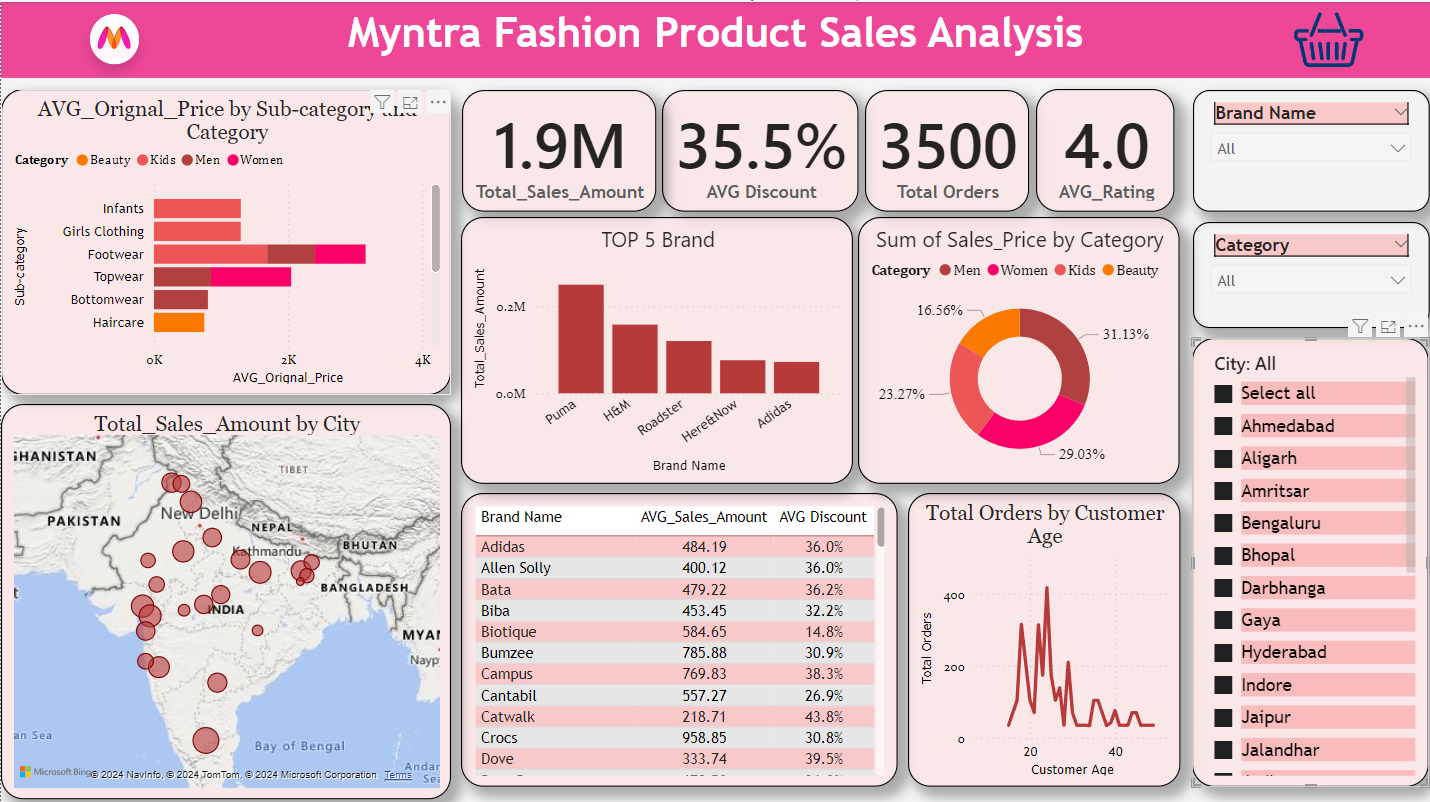

This screenshot's page, from the dashboard's own definition file:
{"tool":"powerbi","page":{"name":"Page 2","canvas":[1280,720],"ordinal":0},"visuals":[{"type":"textbox","box":[0,0,1280,67.8],"z":0},{"type":"image","box":[0,0,201.5,77.9],"z":1000},{"type":"barChart","fields":{"Category":["dim_products.Sub-category"],"Y":["fact_orders.AVG_Orignal_Price"],"Series":["dim_products.Category"]},"box":[0,77.8,403.3,274.4],"z":2000},{"type":"tableEx","fields":{"Values":["dim_products.Brand Name","fact_orders.AVG_Sales_Amount","fact_orders.AVG Discount"]},"box":[411.9,439.7,391.3,263.3],"z":3000},{"type":"card","fields":{"Values":["fact_orders.AVG Discount"]},"box":[591.8,78.8,176.4,109.3],"z":5000},{"type":"card","fields":{"Values":["fact_orders.Total Orders"]},"box":[773.9,78.8,146.9,109.3],"z":6000},{"type":"card","fields":{"Values":["dim_products.AVG_Rating"]},"box":[926.5,77.9,124.5,110.1],"z":7000},{"type":"slicer","fields":{"Values":["dim_products.Brand Name"]},"box":[1067.5,78.8,212.2,109.3],"z":8000},{"type":"card","fields":{"Values":["fact_orders.Total_Sales_Amount"]},"box":[412.4,78.8,173.7,109.3],"z":8001},{"type":"slicer","fields":{"Values":["dim_products.Category"]},"box":[1067.5,197,212.2,94.9],"z":8002},{"type":"map","fields":{"Category":["dim_customers.City"],"Size":["fact_orders.Total_Sales_Amount"]},"box":[0,360,403,353.7],"z":8003},{"type":"columnChart","title":"TOP 5 Brand","fields":{"Y":["fact_orders.Total_Sales_Amount"],"Category":["dim_products.Brand Name"]},"box":[412.2,192.2,351.1,238.9],"z":8004},{"type":"lineChart","fields":{"Y":["fact_orders.Total Orders"],"Category":["dim_customers.Customer Age"]},"box":[812.2,439.7,243.6,263.3],"z":8006},{"type":"donutChart","fields":{"Category":["dim_products.Category"],"Y":["Sum(fact_orders.Sales_Price)"]},"box":[767.8,192.2,287.8,238.9],"z":8007},{"type":"slicer","fields":{"Values":["dim_customers.City"]},"box":[1066.6,300.9,212.2,402.1],"z":8008},{"type":"image","box":[1152.5,3.6,72.5,60.9],"z":8009}]}

Visuals, with their boxes in screenshot pixels (x1, y1, x2, y2), scaled from the page's 1280x720 canvas onto the 1430x802 screenshot:
textbox: 0, 0, 1429, 76
image: 0, 0, 225, 87
barChart - dim_products.Sub-category x fact_orders.AVG_Orignal_Price: 0, 87, 451, 392
tableEx - dim_products.Brand Name x fact_orders.AVG_Sales_Amount: 460, 490, 897, 783
card - fact_orders.AVG Discount: 661, 88, 858, 210
card - fact_orders.Total Orders: 865, 88, 1029, 210
card - dim_products.AVG_Rating: 1035, 87, 1174, 209
slicer - dim_products.Brand Name: 1193, 88, 1429, 210
card - fact_orders.Total_Sales_Amount: 461, 88, 655, 210
slicer - dim_products.Category: 1193, 219, 1429, 325
map - dim_customers.City x fact_orders.Total_Sales_Amount: 0, 401, 450, 795
"TOP 5 Brand" columnChart: 461, 214, 853, 480
lineChart - fact_orders.Total Orders x dim_customers.Customer Age: 907, 490, 1180, 783
donutChart - dim_products.Category x Sum(fact_orders.Sales_Price): 858, 214, 1179, 480
slicer - dim_customers.City: 1192, 335, 1429, 783
image: 1288, 4, 1369, 72
